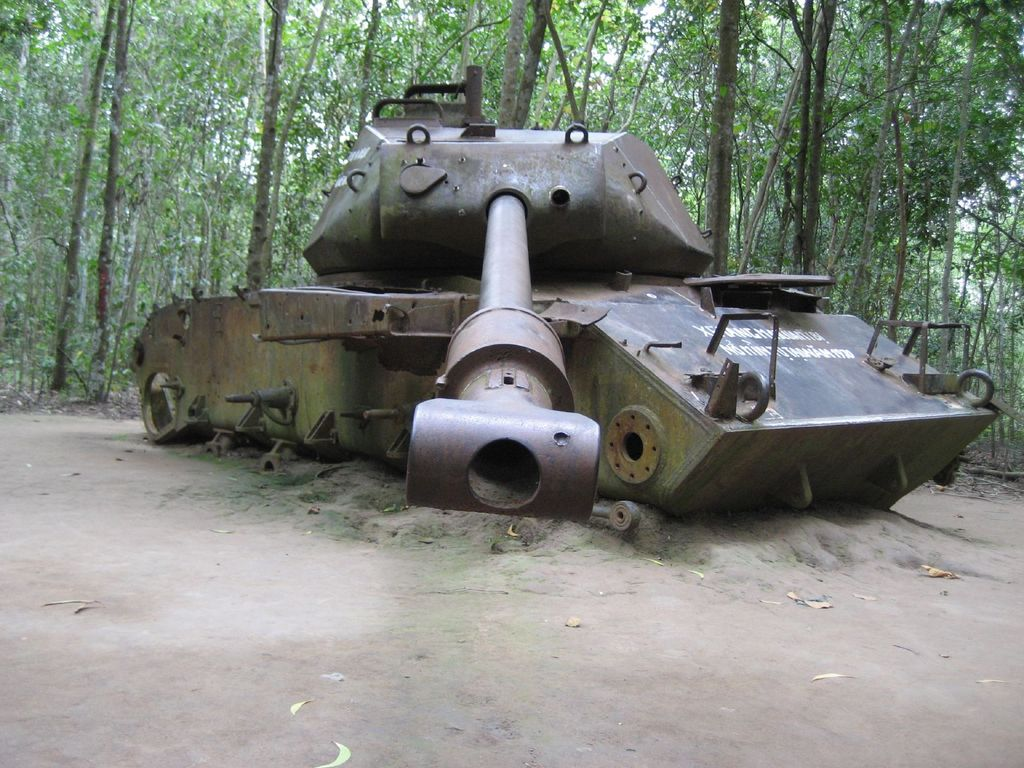Tree: (0, 0, 1024, 479)
